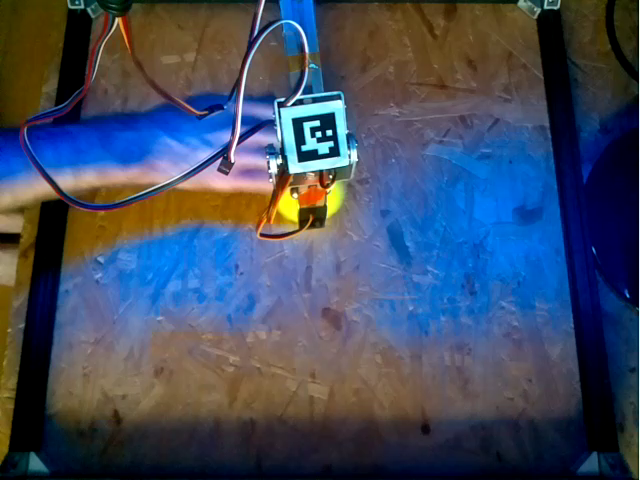tennis_ball: (279, 184, 343, 220)
